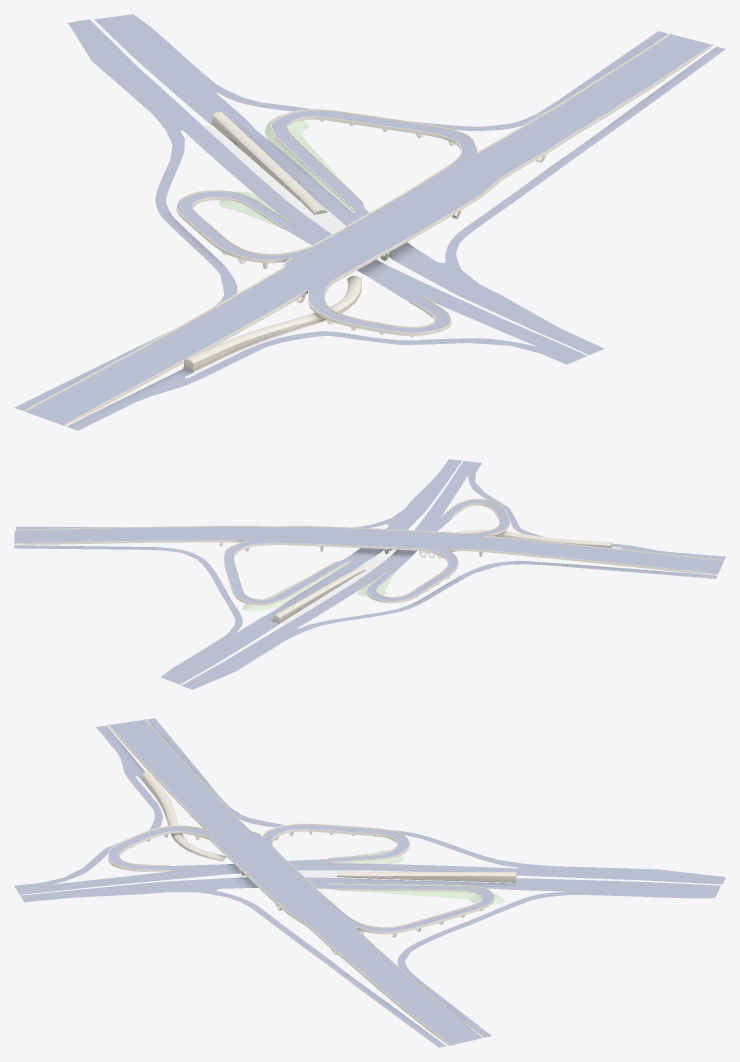
Rendered from Saina-Raymbeka.glb.
3 views of the same model, one above another, from view 1: azimuth 30°, elevation 25°; view 2: azimuth 150°, elevation 25°; view 3: azimuth 270°, elevation 25° (orthographic). The views are drawn at different scales.
Parts seen in each view (by area): view 1: group_1, group_0.025, group_47, group_0.004; view 2: group_1, group_0.025, group_47, group_0.004; view 3: group_1, group_0.025, group_0.004, group_47.
Part boxes in pixels (x1,y1,x2,y2): group_1: [14, 14, 725, 430]; group_0.025: [24, 32, 714, 425]; group_47: [203, 124, 393, 264]; group_0.004: [219, 114, 353, 227]; group_1: [14, 459, 725, 689]; group_0.025: [14, 498, 723, 623]; group_47: [280, 549, 396, 624]; group_0.004: [242, 562, 393, 610]; group_1: [14, 718, 725, 1047]; group_0.025: [107, 718, 516, 1045]; group_0.004: [334, 850, 504, 904]; group_47: [235, 870, 515, 883].
Bounding box in the file's own units: 610 × 8 × 557.
6 materials, 2 textured.
